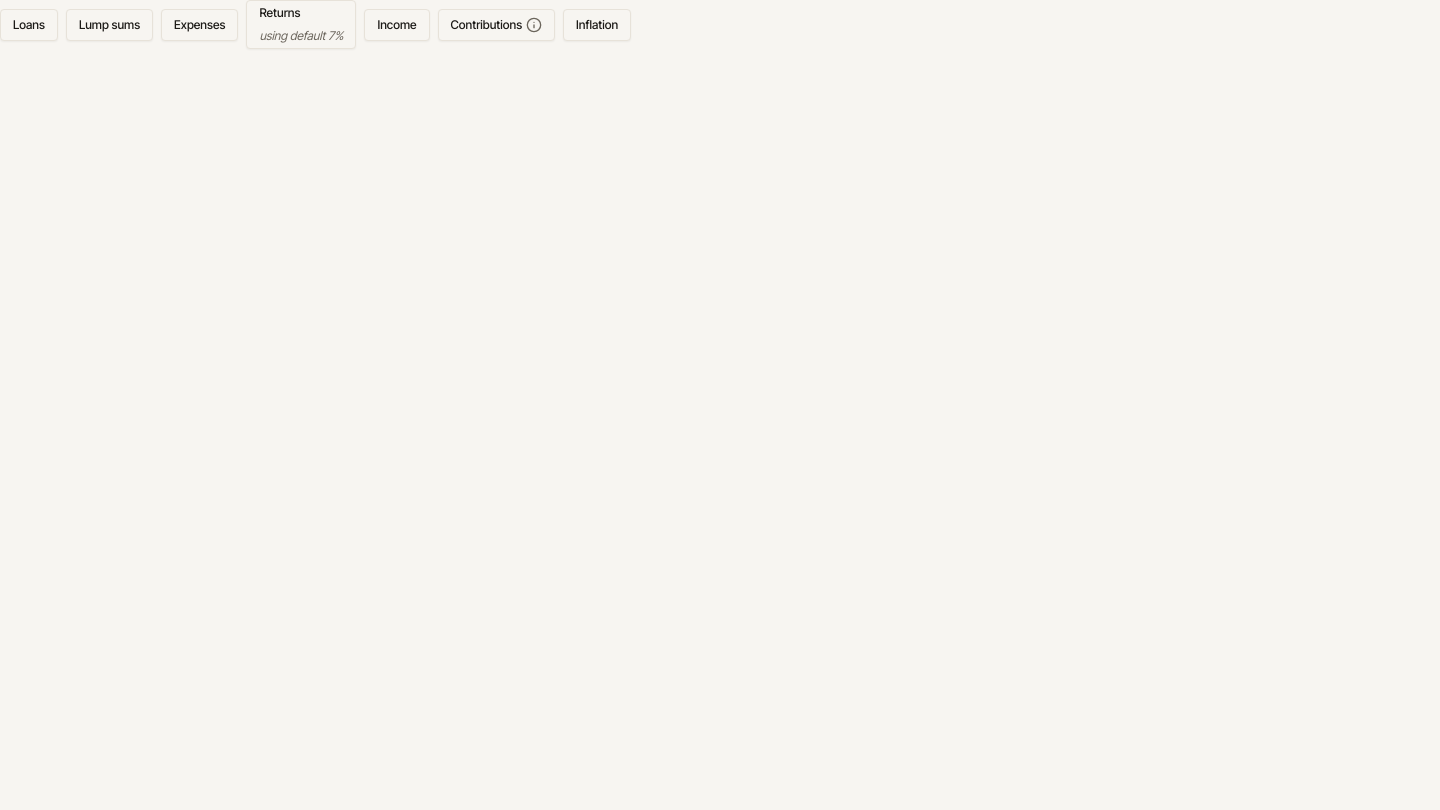
Test: LeverBar › clicking a pill opens its popover and clicking it again closes
The width and height of the screenshot is (1440, 810).
Click the button "Loans" at (29,24), box left=0, top=8, right=58, bottom=40
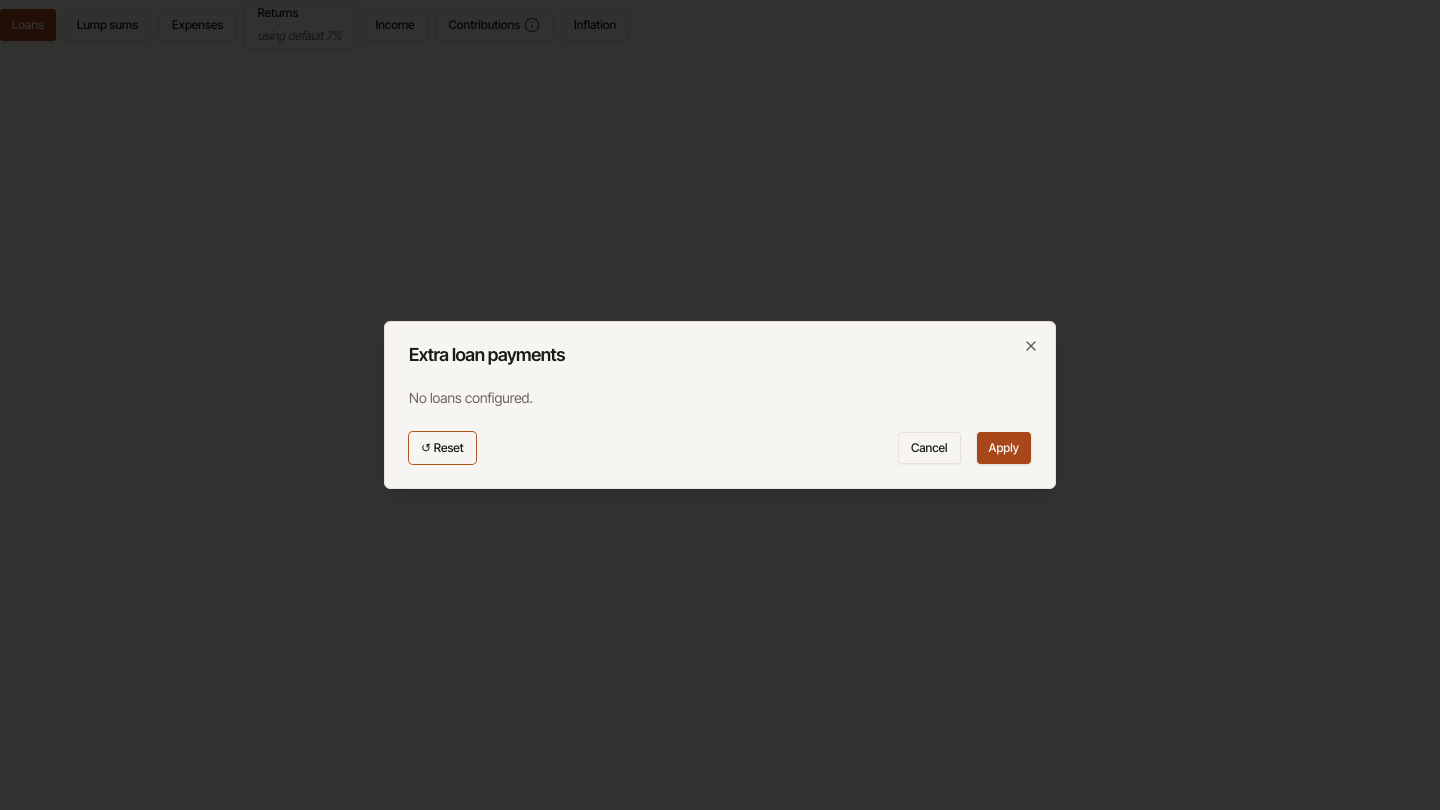
Check: the dialog "Extra loan payments" is shown, box left=384, top=321, right=1056, bottom=489
Press Escape
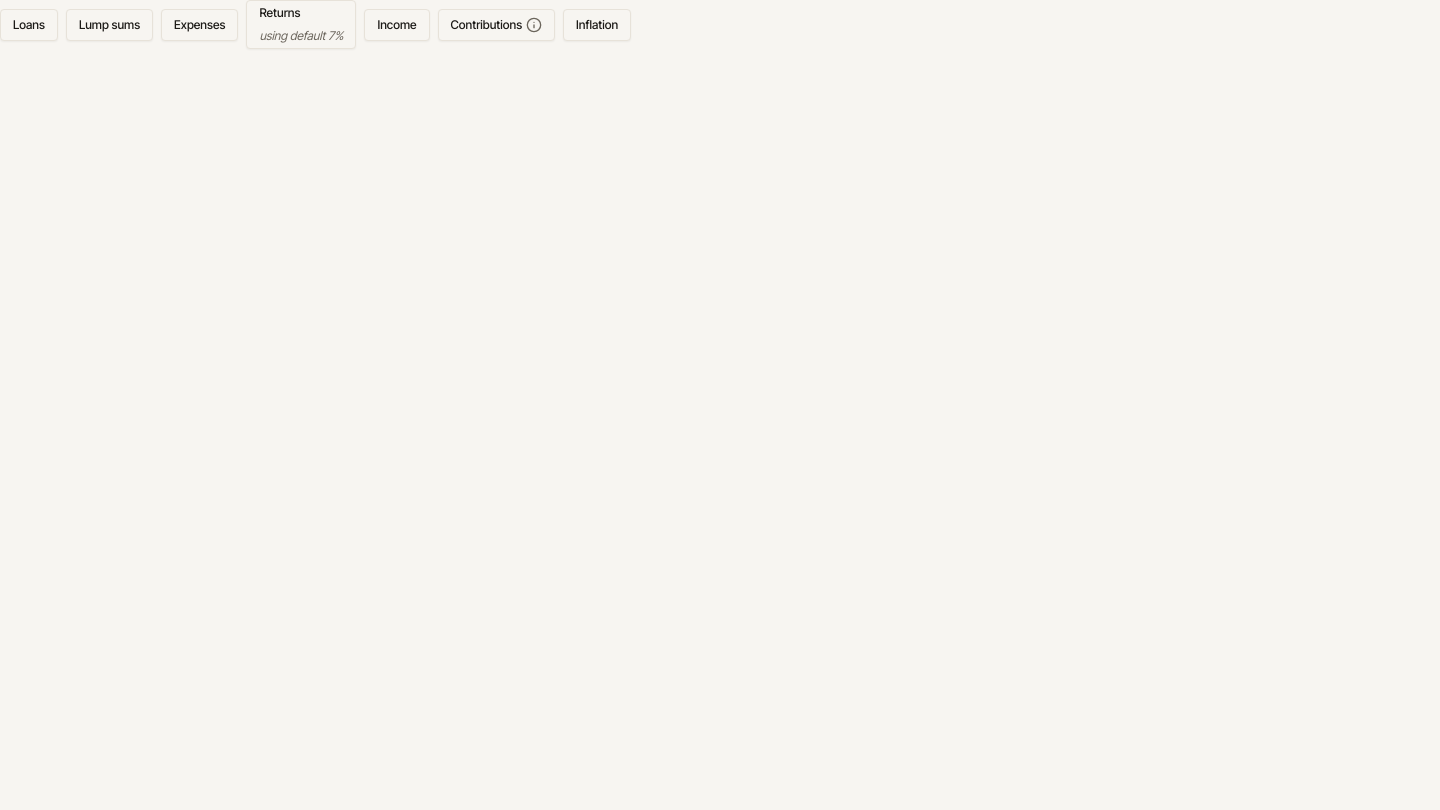
Check: the heading "Extra loan payments" is gone
